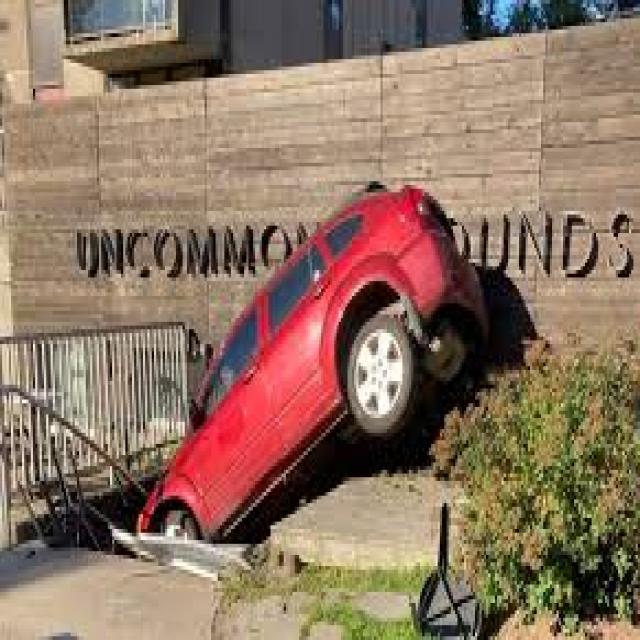accident: (98, 271, 483, 585)
